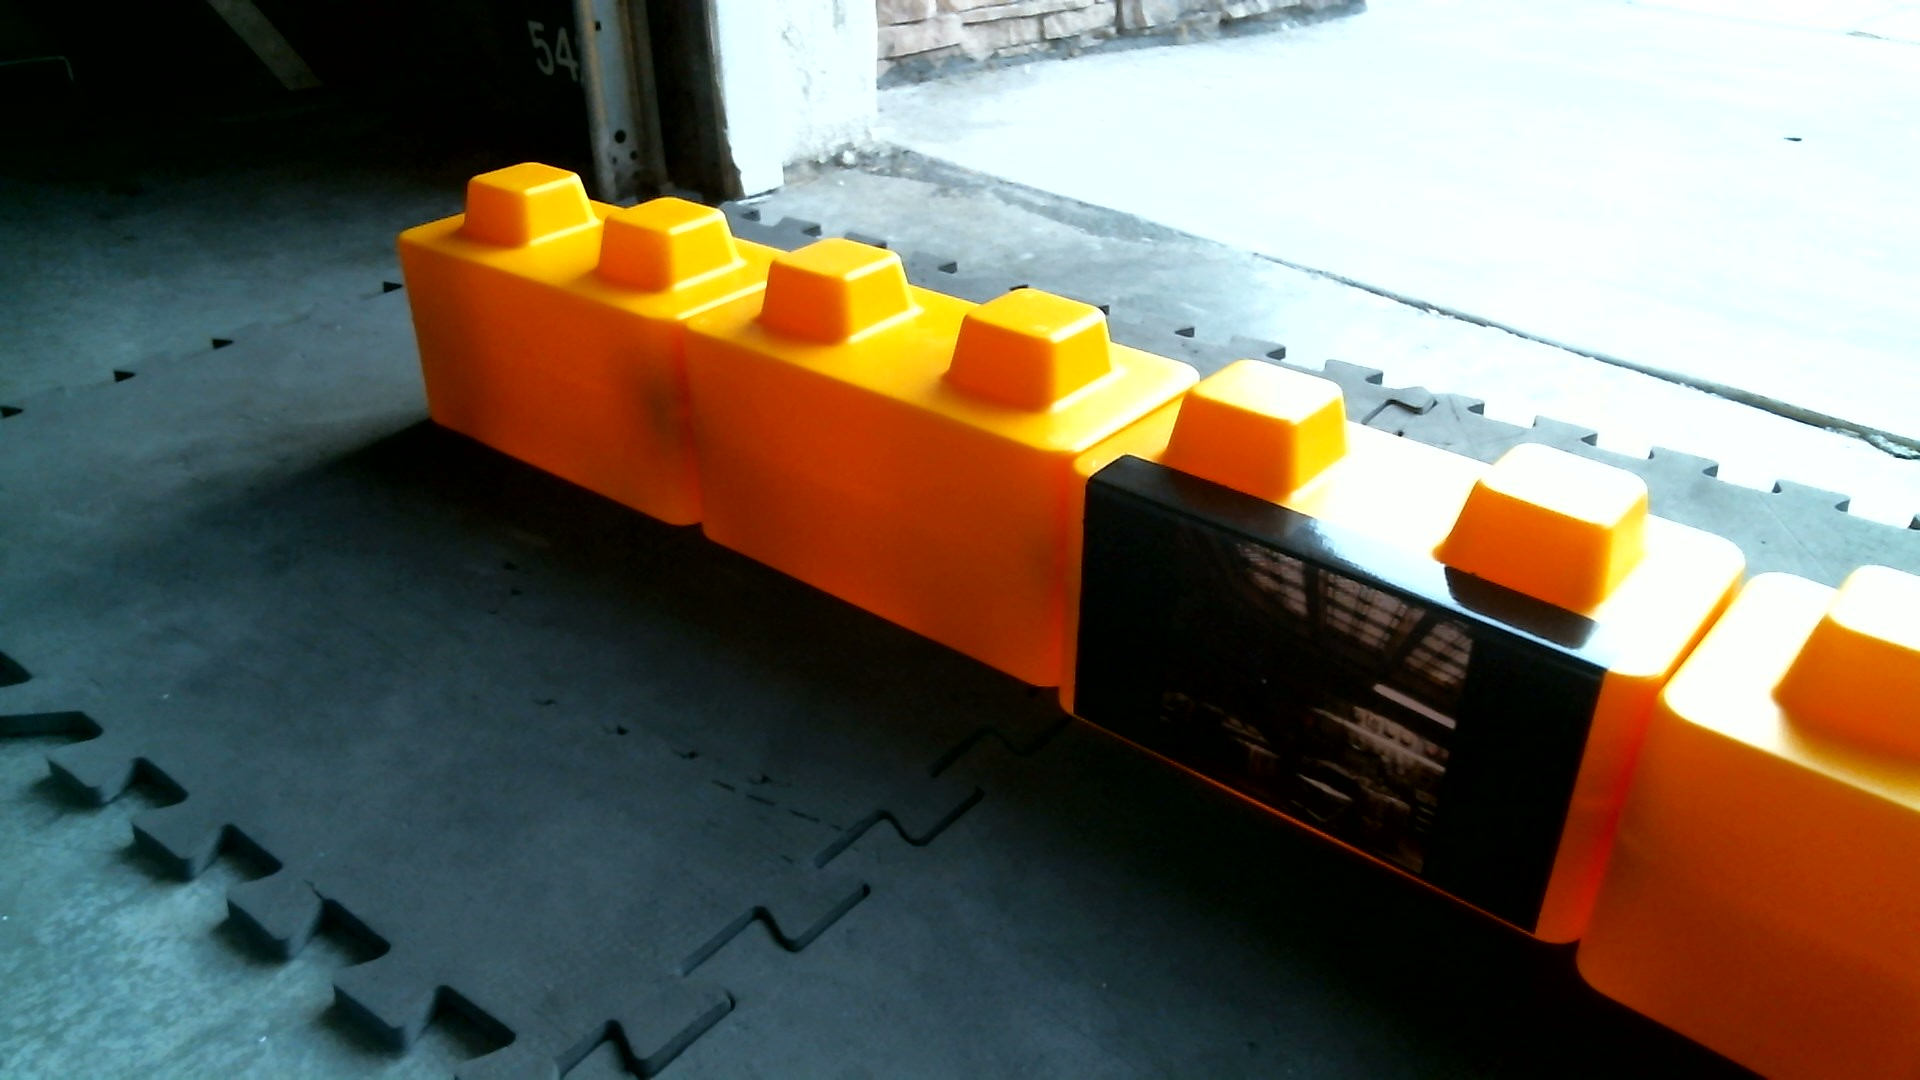right: (396, 142, 1753, 1007)
